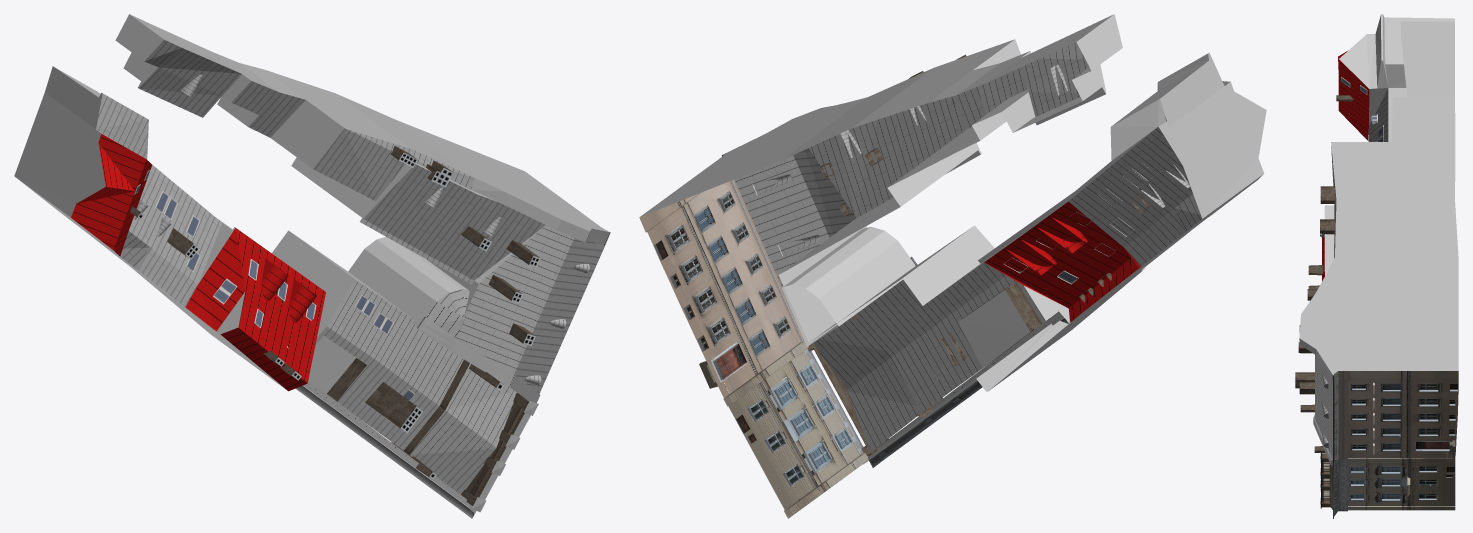
File: Lai-11.obj
3 views of the same model, side by side, from view 1: azimuth 30°, elevation 25°; view 2: azimuth 150°, elevation 25°; view 3: azimuth 270°, elevation 25° (orthographic). The views are drawn at different scales.
Visible parts, largest first — view 1: Lai_11; view 2: Lai_11; view 3: Lai_11.
Part boxes in pixels (box(x1,y1,x2,y2)): Lai_11: box(14, 14, 610, 518); Lai_11: box(639, 14, 1266, 518); Lai_11: box(1295, 14, 1458, 518).
Bounding box in the file's own units: 53.21 × 50.24 × 18.71.
